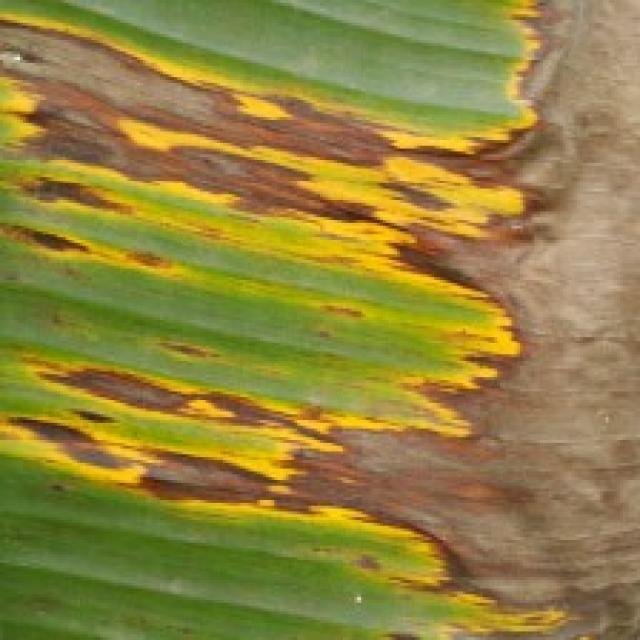Early_leaf_spot: (0, 324, 629, 640), (0, 0, 540, 306), (437, 0, 580, 434)
